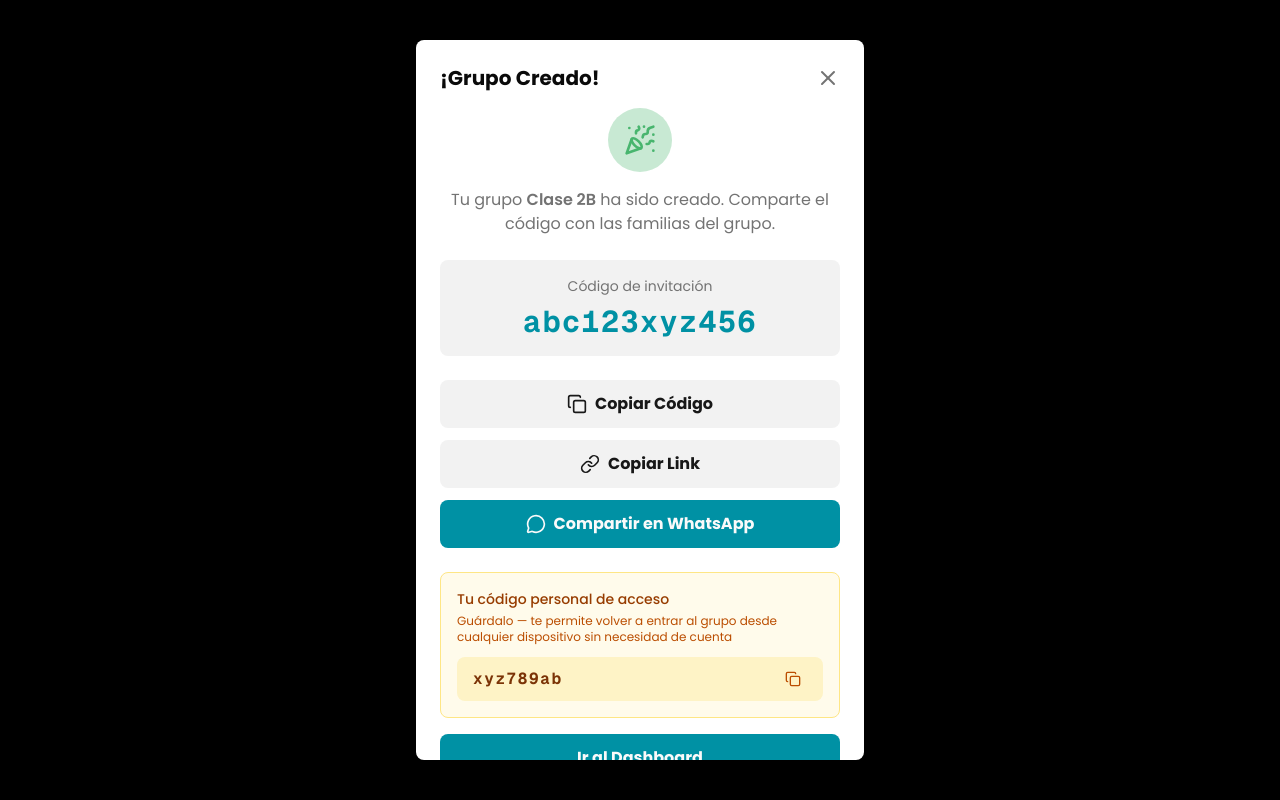
Scenario: InviteCodeModal › familyShareCode copy button does not interfere with invite code copy state
Copy the invite code first
Click the button "Copiar Código" at [640, 404], box [440, 380, 840, 428]
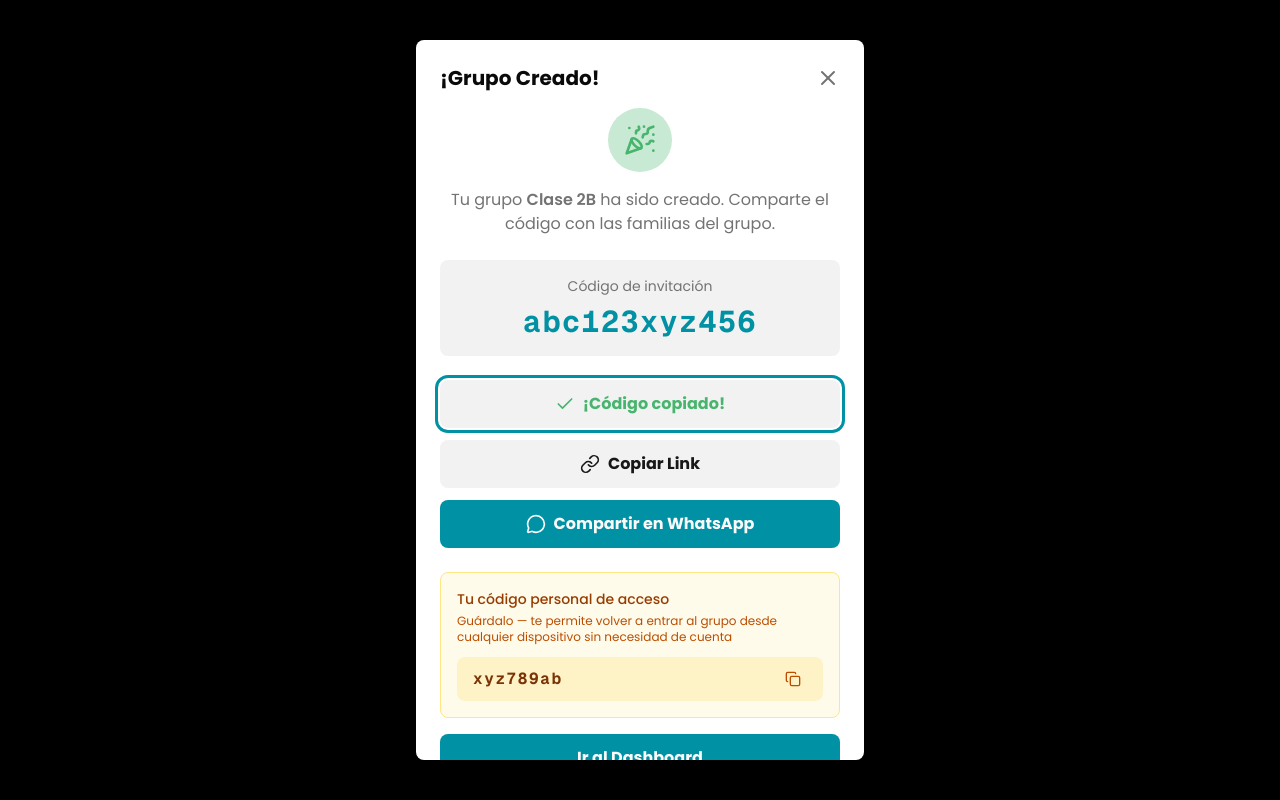
Expected: the text "xyz789ab" is shown, [473, 667, 563, 691]
Expected: the text "¡Código copiado!" is shown, [583, 392, 725, 416]
